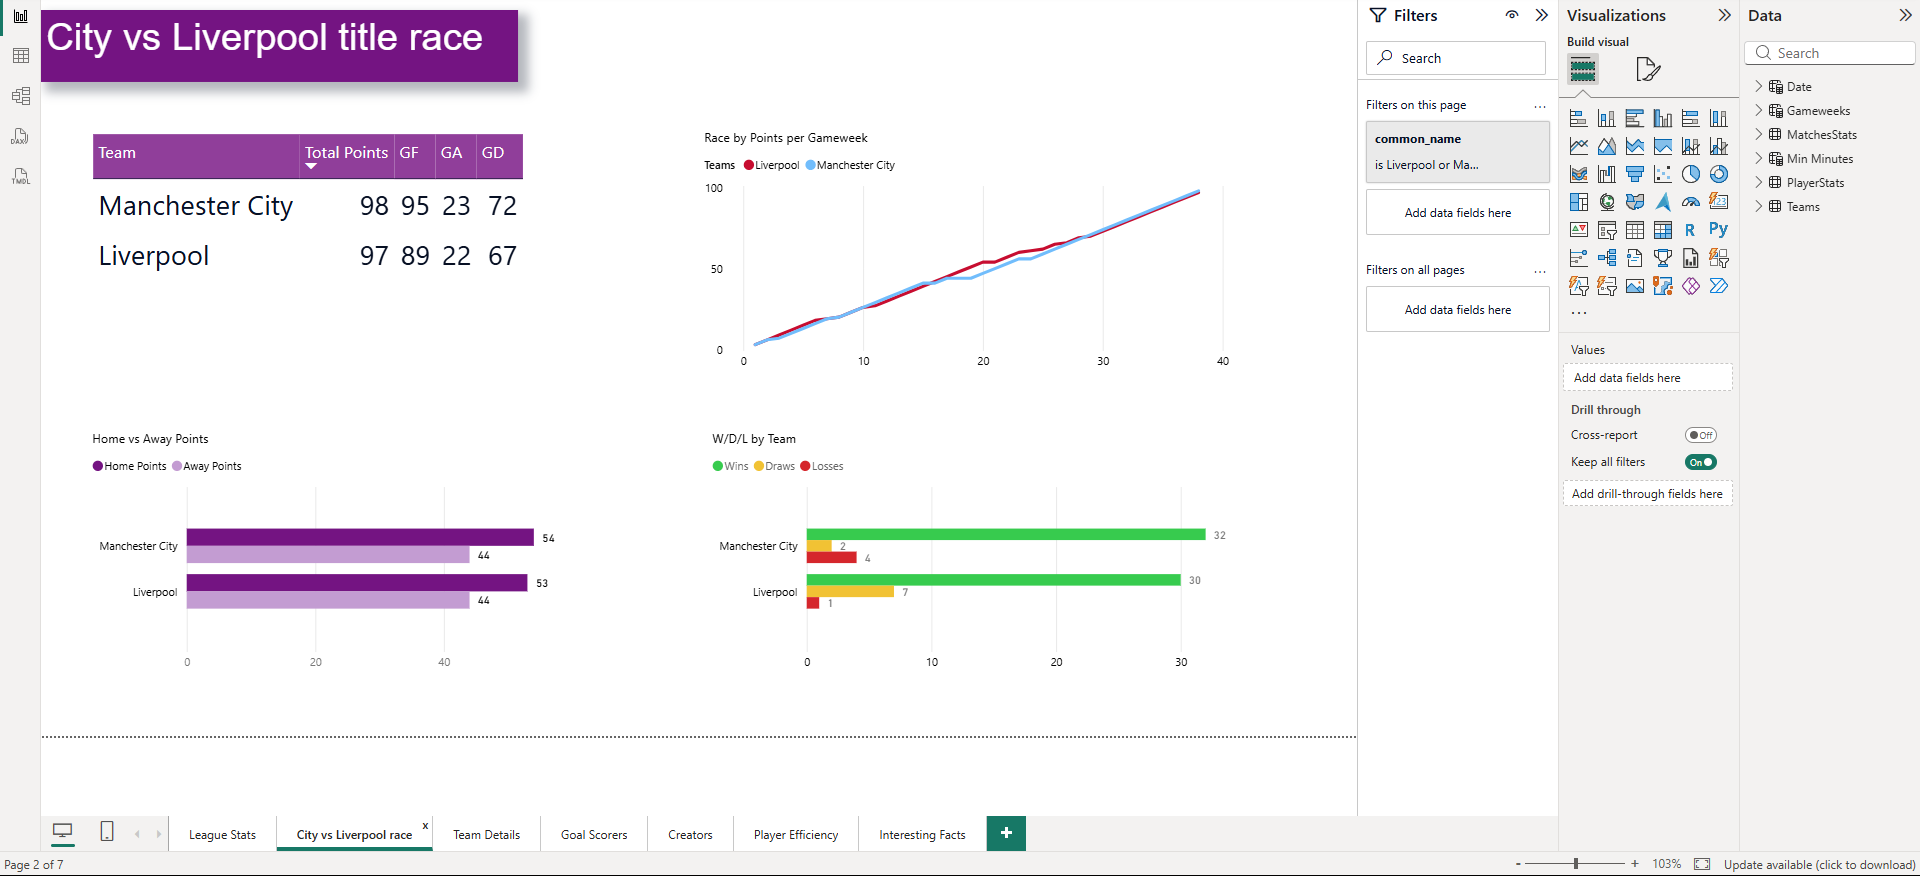

The page's visual inventory and layout, read from the dashboard file:
{"tool":"powerbi","page":{"name":"City vs Liverpool race","canvas":[1280,720],"ordinal":1},"visuals":[{"type":"lineChart","title":"Race by Points per Gameweek","fields":{"Category":["Gameweeks.Game Week"],"Y":["Gameweeks.Cumulative Points"],"Series":["Teams.common_name"]},"box":[640,129.4,524.3,243.2],"z":0},{"type":"tableEx","fields":{"Values":["Teams.common_name","MatchesStats.Total Points","MatchesStats.GF","MatchesStats.GA","MatchesStats.GD"]},"box":[44.7,129.4,434.8,157.6],"z":1000},{"type":"clusteredBarChart","title":"Home vs Away Points ","fields":{"Category":["Teams.common_name"],"Y":["MatchesStats.Home Points","MatchesStats.Away Points"]},"box":[44.7,422.1,466.9,243.2],"z":2000},{"type":"clusteredBarChart","title":"W/D/L by Team","fields":{"Category":["Teams.common_name"],"Y":["MatchesStats.Wins","MatchesStats.Draws","MatchesStats.Losses"]},"box":[647.8,422.1,516.5,243.2],"z":3000},{"type":"textbox","box":[0,14,463.9,69.8],"z":4000}]}

Visuals, with their boxes on the page's 1280x720 design canvas (x1, y1, x2, y2). These are canvas units, not pixel positions in the 1920x876 screenshot, which may show the page scaled, cropped or inside an application window:
"Race by Points per Gameweek" lineChart: {"left": 640, "top": 129, "right": 1164, "bottom": 373}
tableEx - Teams.common_name x MatchesStats.Total Points: {"left": 45, "top": 129, "right": 480, "bottom": 287}
"Home vs Away Points " clusteredBarChart: {"left": 45, "top": 422, "right": 512, "bottom": 665}
"W/D/L by Team" clusteredBarChart: {"left": 648, "top": 422, "right": 1164, "bottom": 665}
textbox: {"left": 0, "top": 14, "right": 464, "bottom": 84}
